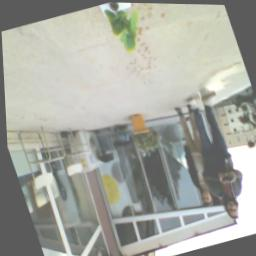herb: (104, 3, 149, 56)
